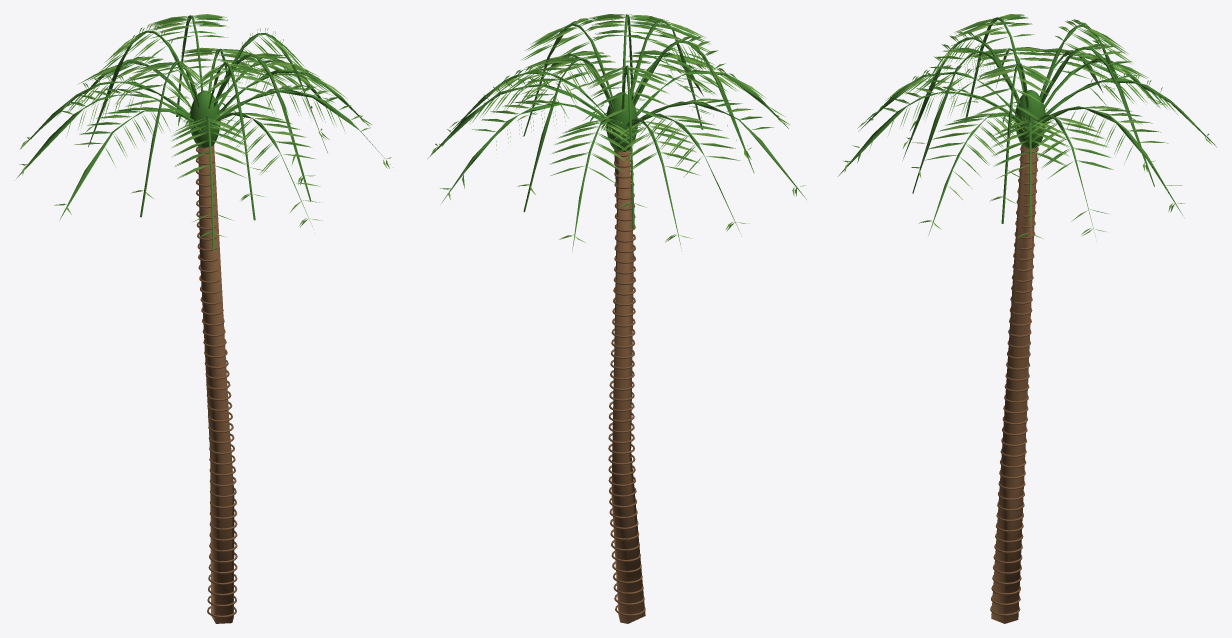
File: palm_detailed_c.glb
The picture shows the model from 3 angles, left to right: view 1: azimuth 30°, elevation 25°; view 2: azimuth 150°, elevation 25°; view 3: azimuth 270°, elevation 25°; orthographic projection. The views are drawn at different scales.
Parts seen in each view (by area): view 1: palm_detailed (×5); view 2: palm_detailed (×5); view 3: palm_detailed (×5).
Part boxes in pixels (x1,y1,x2,y2): palm_detailed (×5): [16, 14, 391, 623]; palm_detailed (×5): [427, 14, 806, 623]; palm_detailed (×5): [838, 14, 1216, 623].
Size of the model in its own units: 5.38 by 8.87 by 5.32.
